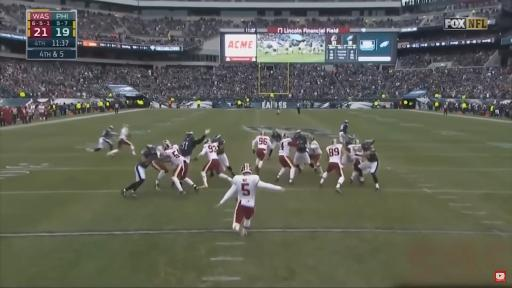Helmet: (241, 163, 251, 173), (163, 140, 171, 150), (186, 131, 193, 137), (295, 129, 301, 135), (331, 139, 337, 144), (204, 138, 210, 143), (282, 133, 287, 138), (260, 131, 266, 135), (147, 144, 153, 148), (216, 134, 222, 138), (273, 131, 279, 135), (109, 125, 113, 130), (123, 124, 129, 127)
Jersey: (233, 175, 259, 206), (180, 135, 205, 156), (139, 148, 158, 168), (165, 147, 183, 166), (326, 144, 342, 163), (203, 143, 218, 159), (279, 138, 292, 156), (347, 144, 362, 159), (253, 136, 270, 149), (297, 135, 308, 153), (365, 147, 378, 162), (215, 138, 225, 155), (309, 140, 321, 154), (345, 139, 353, 153), (156, 145, 165, 157), (119, 127, 128, 139), (271, 132, 281, 142), (102, 130, 112, 139), (340, 124, 348, 134)
Player: (216, 164, 284, 235), (122, 145, 158, 197), (195, 139, 231, 188), (164, 145, 198, 194), (320, 139, 344, 193), (358, 140, 379, 189), (151, 140, 171, 189), (180, 130, 209, 163), (276, 134, 295, 183), (213, 135, 234, 176), (294, 130, 314, 172), (108, 125, 135, 155), (252, 132, 271, 174), (94, 126, 117, 152), (348, 144, 363, 183), (309, 136, 322, 174), (342, 135, 358, 165), (269, 130, 282, 158), (156, 141, 170, 157), (339, 120, 348, 143)
